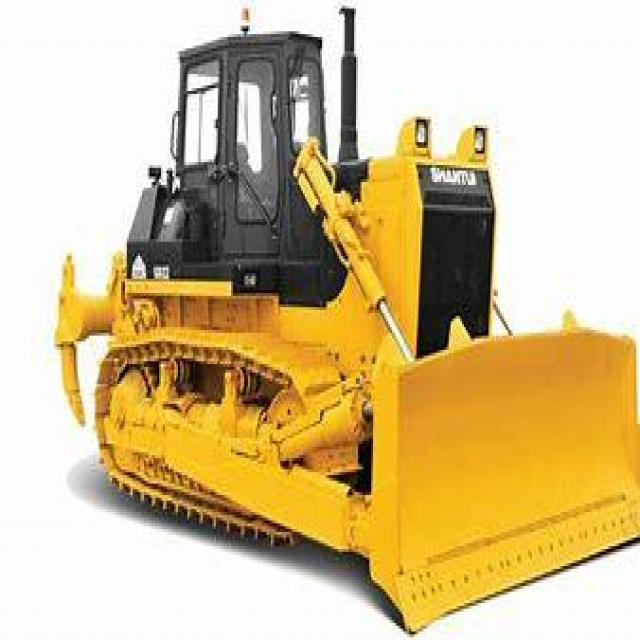Bulldozer: (53, 0, 638, 629)
